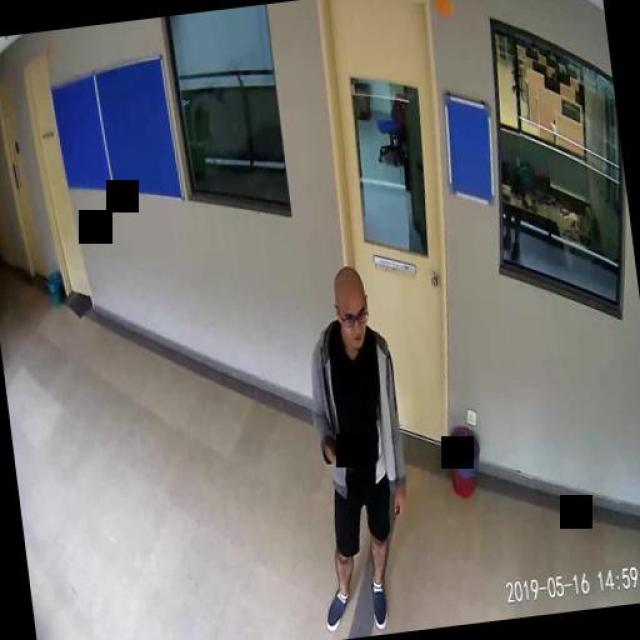gun: (323, 430, 352, 474)
